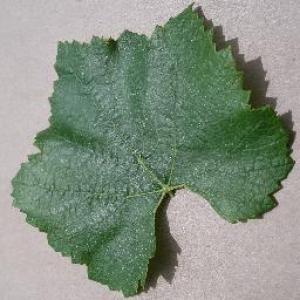Folha: (9, 1, 296, 298)
